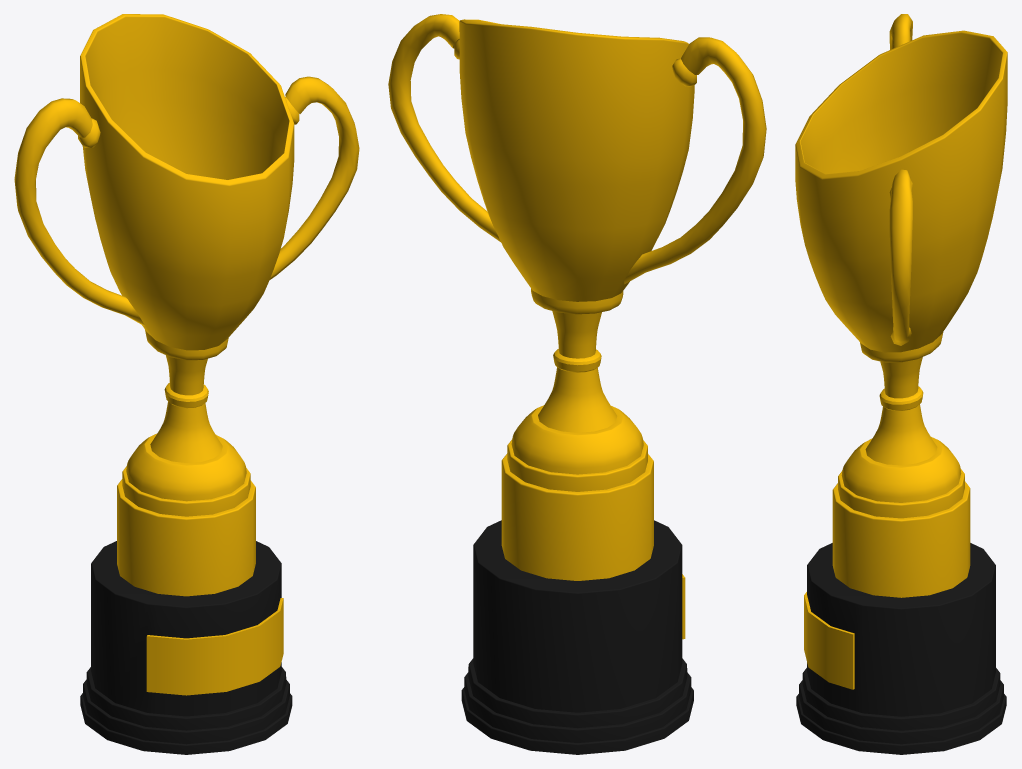
File: Trofeu SBS.FBX
3 renders of one model, left to right at view 1: azimuth 30°, elevation 25°; view 2: azimuth 150°, elevation 25°; view 3: azimuth 270°, elevation 25°, orthographic. The views are drawn at different scales.
Visible parts, largest first — view 1: Line002; view 2: Line002; view 3: Line002.
Part boxes in pixels (x1=…): Line002: x1=14, y1=14, x2=359, y2=754; Line002: x1=388, y1=14, x2=766, y2=754; Line002: x1=795, y1=14, x2=1007, y2=754.
Bounding box in the file's own units: 33.07 × 60.87 × 17.91.
